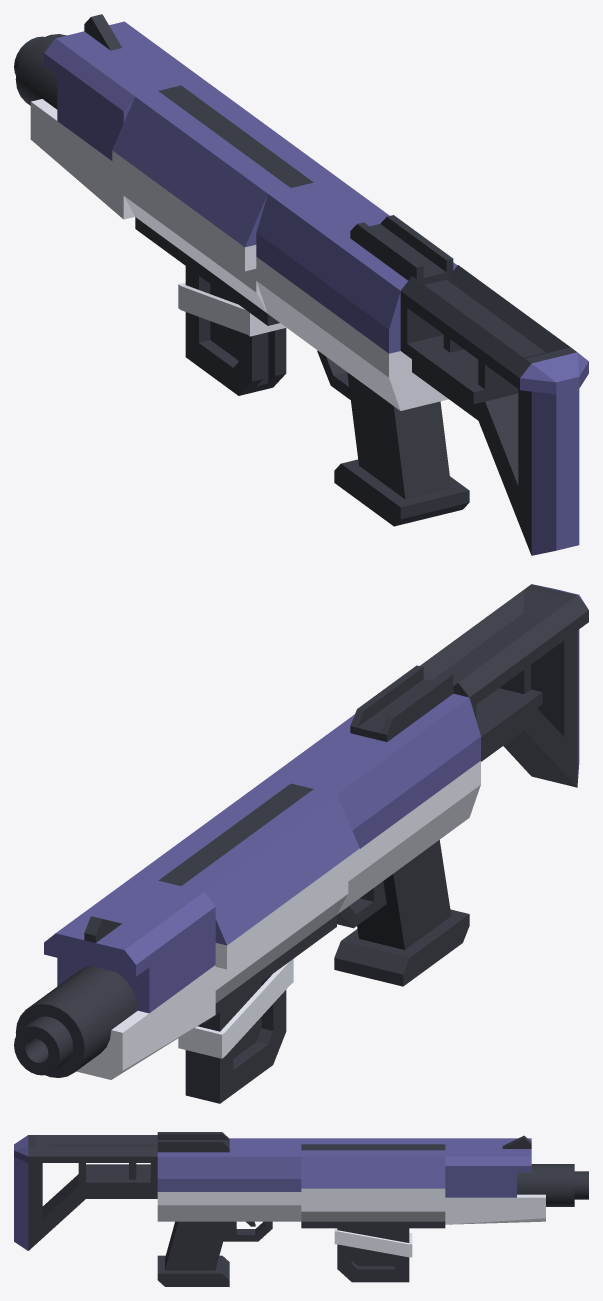
Rendered from rifle.obj.
The picture shows the model from 3 angles, top to bottom: view 1: azimuth 30°, elevation 25°; view 2: azimuth 150°, elevation 25°; view 3: azimuth 270°, elevation 25°; orthographic projection. The views are drawn at different scales.
Visible parts, largest first — view 1: rifle; view 2: rifle; view 3: rifle.
Part boxes in pixels (left/top/right/bottom): rifle: left=14, top=14, right=588, bottom=555; rifle: left=14, top=584, right=588, bottom=1103; rifle: left=14, top=1132, right=588, bottom=1286.
Bounding box in the file's own units: 0.5 × 1.08 × 4.
